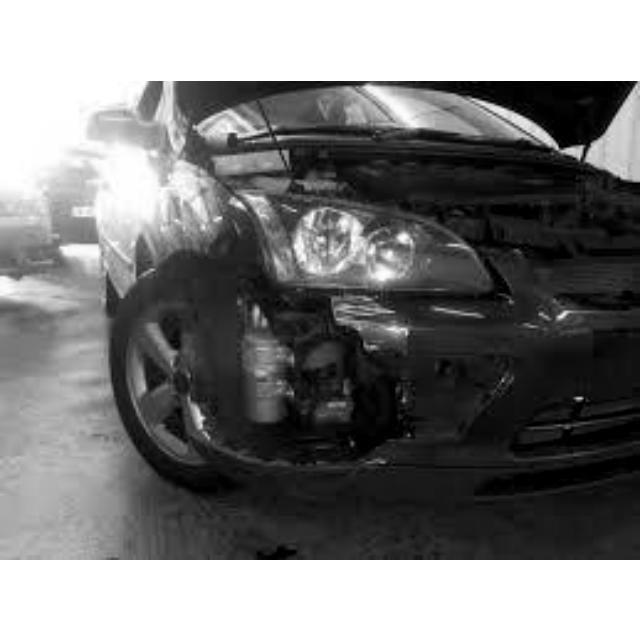Headlight-damage: (208, 142, 477, 300)
front-bumper-dent: (186, 320, 499, 502)
